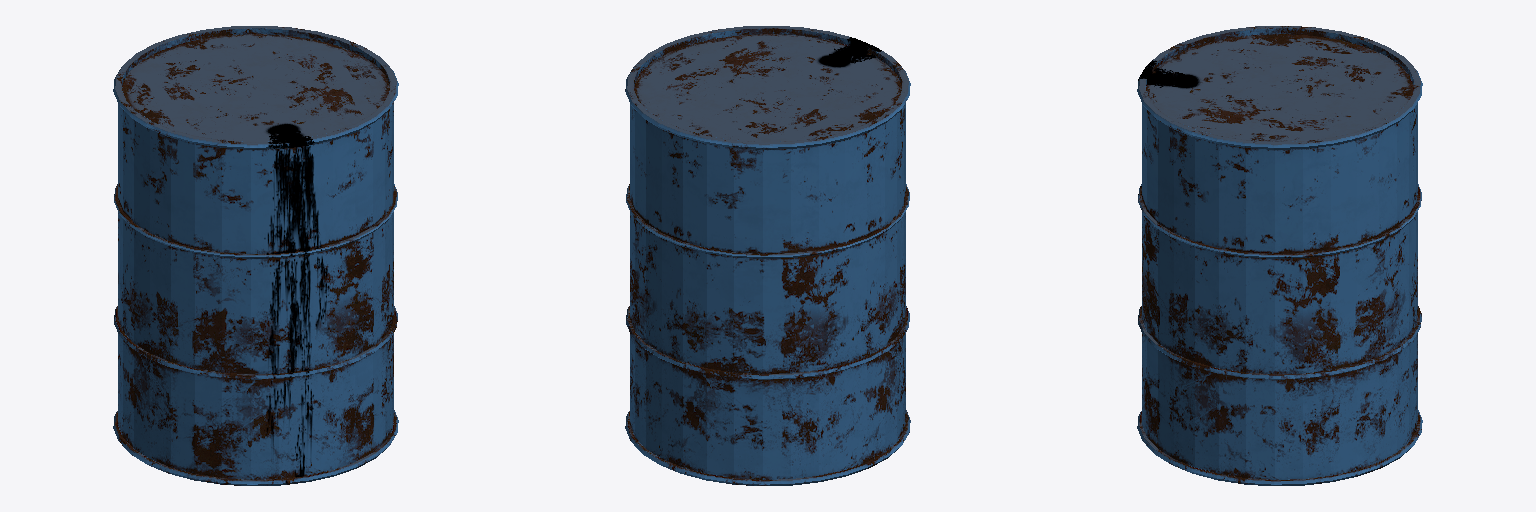
3 views of the same model, side by side, from view 1: azimuth 30°, elevation 25°; view 2: azimuth 150°, elevation 25°; view 3: azimuth 270°, elevation 25° (orthographic).
Visible parts, largest first — view 1: drum2_Mesh.002; view 2: drum2_Mesh.002; view 3: drum2_Mesh.002.
Boxes of the visible parts, box(x1,y1,x2,y2) form: drum2_Mesh.002: box(113, 26, 398, 485); drum2_Mesh.002: box(625, 26, 910, 485); drum2_Mesh.002: box(1137, 26, 1422, 485).
Bounding box in the file's own units: 1.53 × 2.01 × 1.52.
Materials: 1 (1 with a texture image).